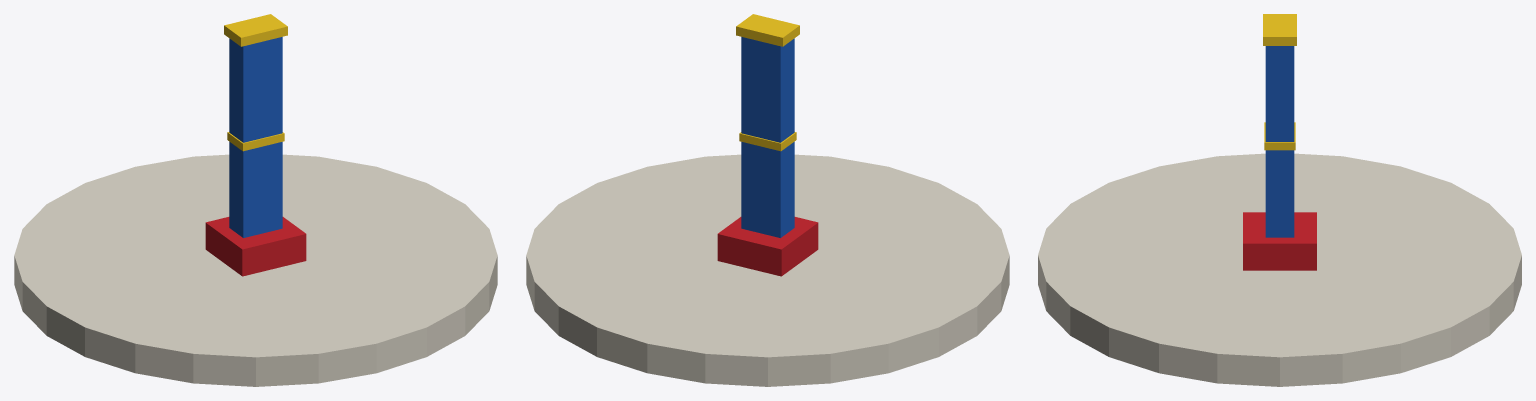
Rendered from rb_sannicolas.glb.
The picture shows the model from 3 angles, left to right: view 1: azimuth 30°, elevation 25°; view 2: azimuth 150°, elevation 25°; view 3: azimuth 270°, elevation 25°; orthographic projection.
Visible parts, largest first — view 1: rb_sannicolas_lod0; view 2: rb_sannicolas_lod0; view 3: rb_sannicolas_lod0.
Part boxes in pixels (x1=…): rb_sannicolas_lod0: x1=14, y1=14, x2=497, y2=386; rb_sannicolas_lod0: x1=526, y1=14, x2=1009, y2=386; rb_sannicolas_lod0: x1=1038, y1=14, x2=1521, y2=386.
Size of what is drawn, in the model's own units: 17 by 10.05 by 17.
